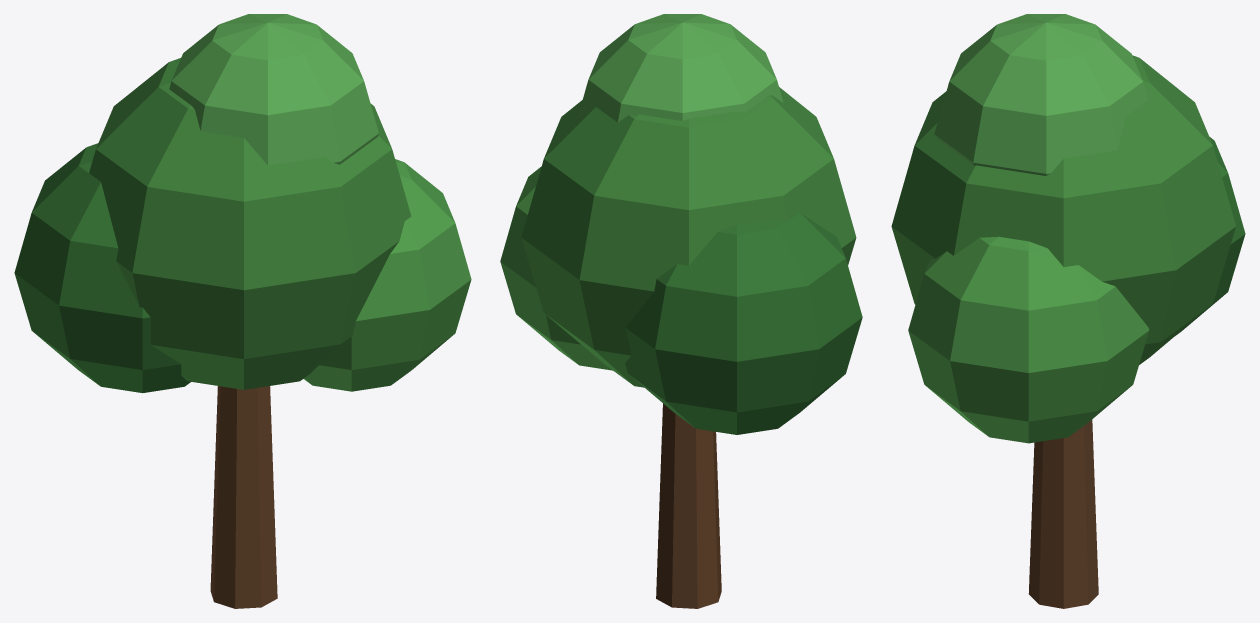
Rendered from tree_round.glb.
3 renders of one model, left to right at view 1: azimuth 30°, elevation 25°; view 2: azimuth 150°, elevation 25°; view 3: azimuth 270°, elevation 25°, orthographic. The views are drawn at different scales.
Visible parts, largest first — view 1: main; view 2: main; view 3: main.
Boxes of the visible parts, left/top/right/bottom form: main: left=14, top=14, right=471, bottom=608; main: left=500, top=14, right=862, bottom=608; main: left=891, top=14, right=1245, bottom=608.
Size of the model in its own units: 2.5 by 3.65 by 2.02.
